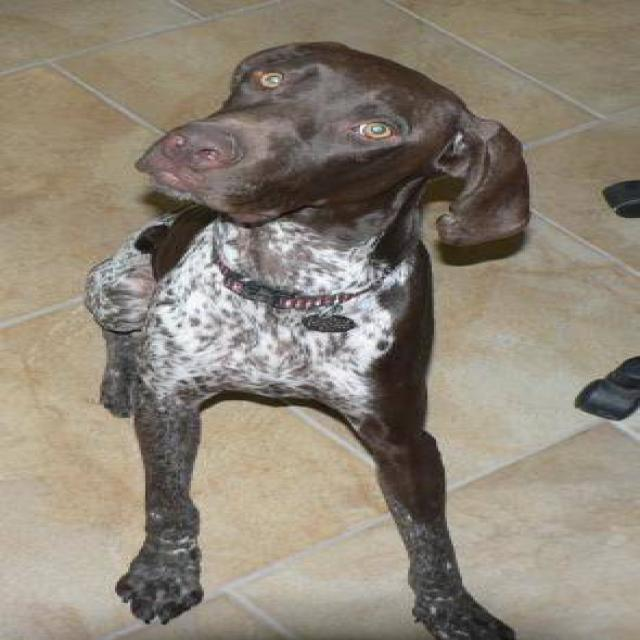dog: (82, 39, 532, 638)
